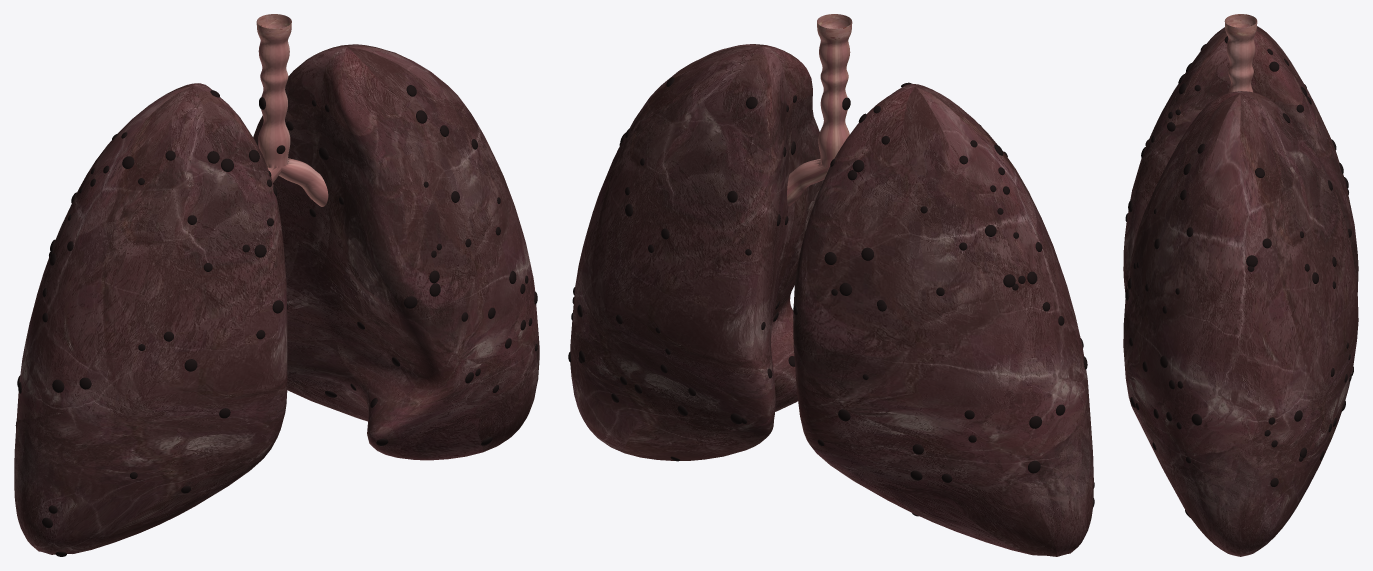
The model's file is lungs-smoker-inside.glb.
3 renders of one model, left to right at view 1: azimuth 30°, elevation 25°; view 2: azimuth 150°, elevation 25°; view 3: azimuth 270°, elevation 25°, orthographic. The views are drawn at different scales.
Parts seen in each view (by area): view 1: group, lungs-smoker-add_0; view 2: group, lungs-smoker-add_0; view 3: group, lungs-smoker-add_0.
Boxes of the visible parts, left/top/right/bottom form: group: left=14, top=14, right=539, bottom=554; lungs-smoker-add_0: left=15, top=85, right=537, bottom=556; group: left=570, top=14, right=1093, bottom=556; lungs-smoker-add_0: left=568, top=77, right=1094, bottom=516; group: left=1123, top=14, right=1358, bottom=556; lungs-smoker-add_0: left=1125, top=36, right=1353, bottom=517.
Size of the model in its own units: 0.2884 by 0.26 by 0.1254.
Materials: 3 (2 with a texture image).
